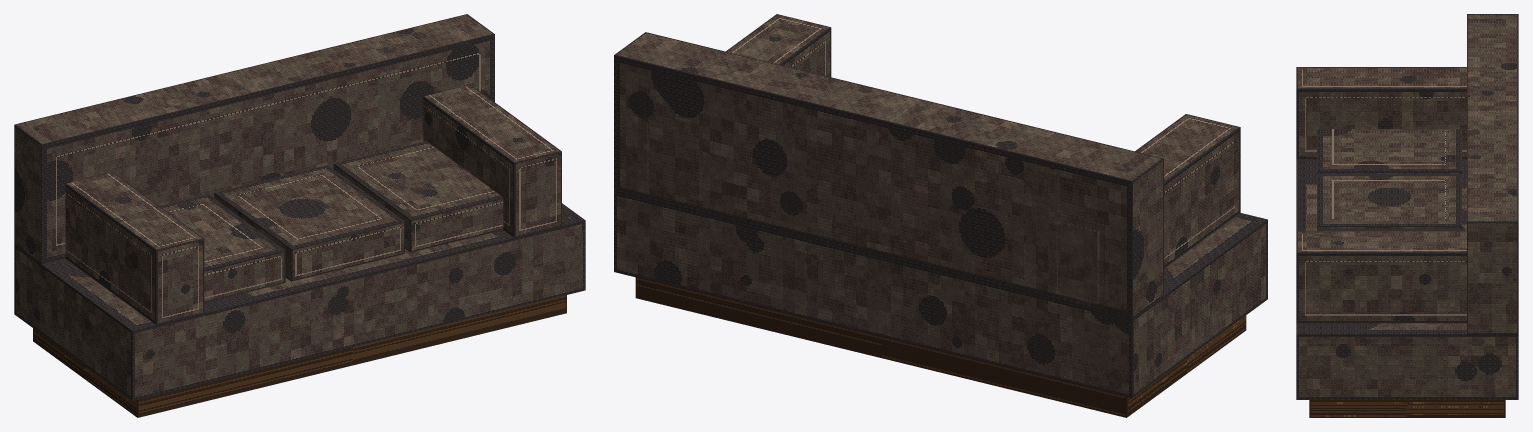
Rendered from SM_Couch_Worn_01.glb.
The picture shows the model from 3 angles, left to right: view 1: azimuth 30°, elevation 25°; view 2: azimuth 150°, elevation 25°; view 3: azimuth 270°, elevation 25°; orthographic projection. The views are drawn at different scales.
Parts seen in each view (by area): view 1: SM_Couch_Worn_01; view 2: SM_Couch_Worn_01; view 3: SM_Couch_Worn_01.
Part boxes in pixels (x1,y1,x2,y2): SM_Couch_Worn_01: (14,14,585,417); SM_Couch_Worn_01: (614,14,1267,417); SM_Couch_Worn_01: (1296,14,1518,417).
Size of the model in its own units: 1.9 by 0.86 by 0.86.
1 material, 1 textured.
